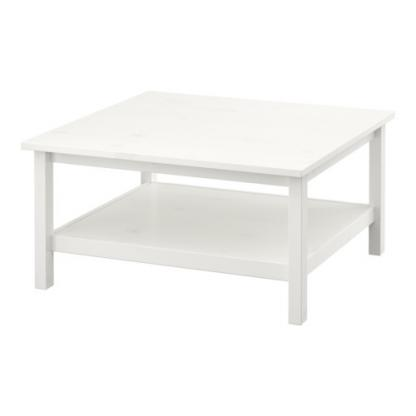Table: (16, 84, 399, 328)
